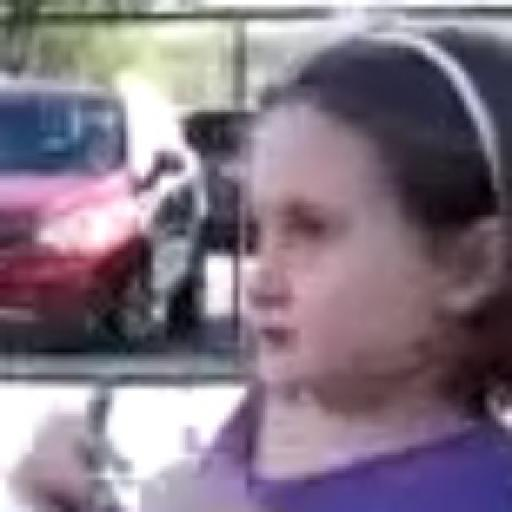Autism: (224, 31, 512, 453)
